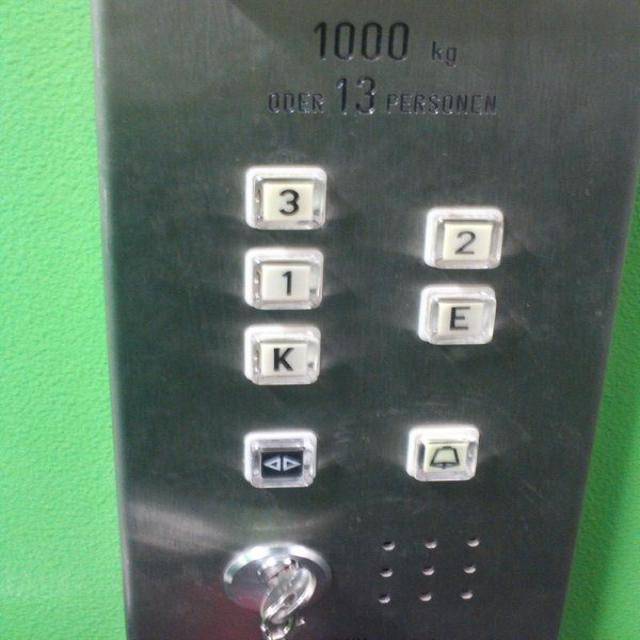1: (242, 246, 323, 310)
2: (420, 206, 502, 270)
3: (245, 164, 326, 230)
E: (416, 284, 495, 345)
K: (243, 322, 321, 386)
alarm: (401, 423, 483, 484)
open: (238, 428, 323, 490)
